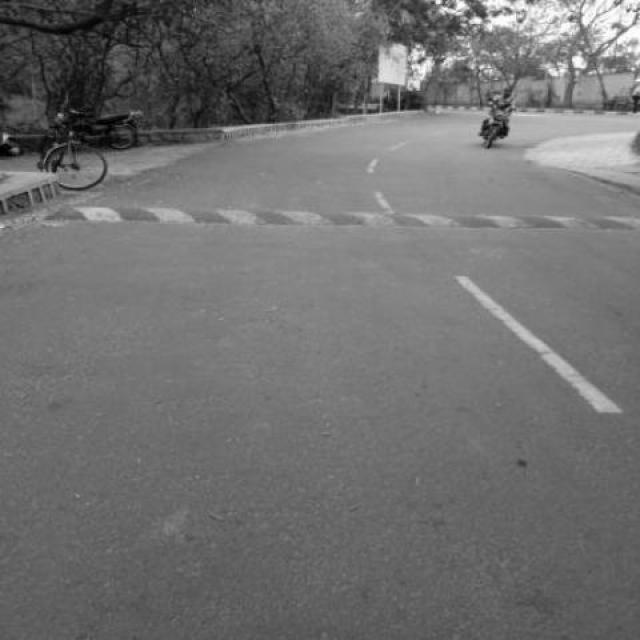Speed Bump: (27, 204, 638, 234)
